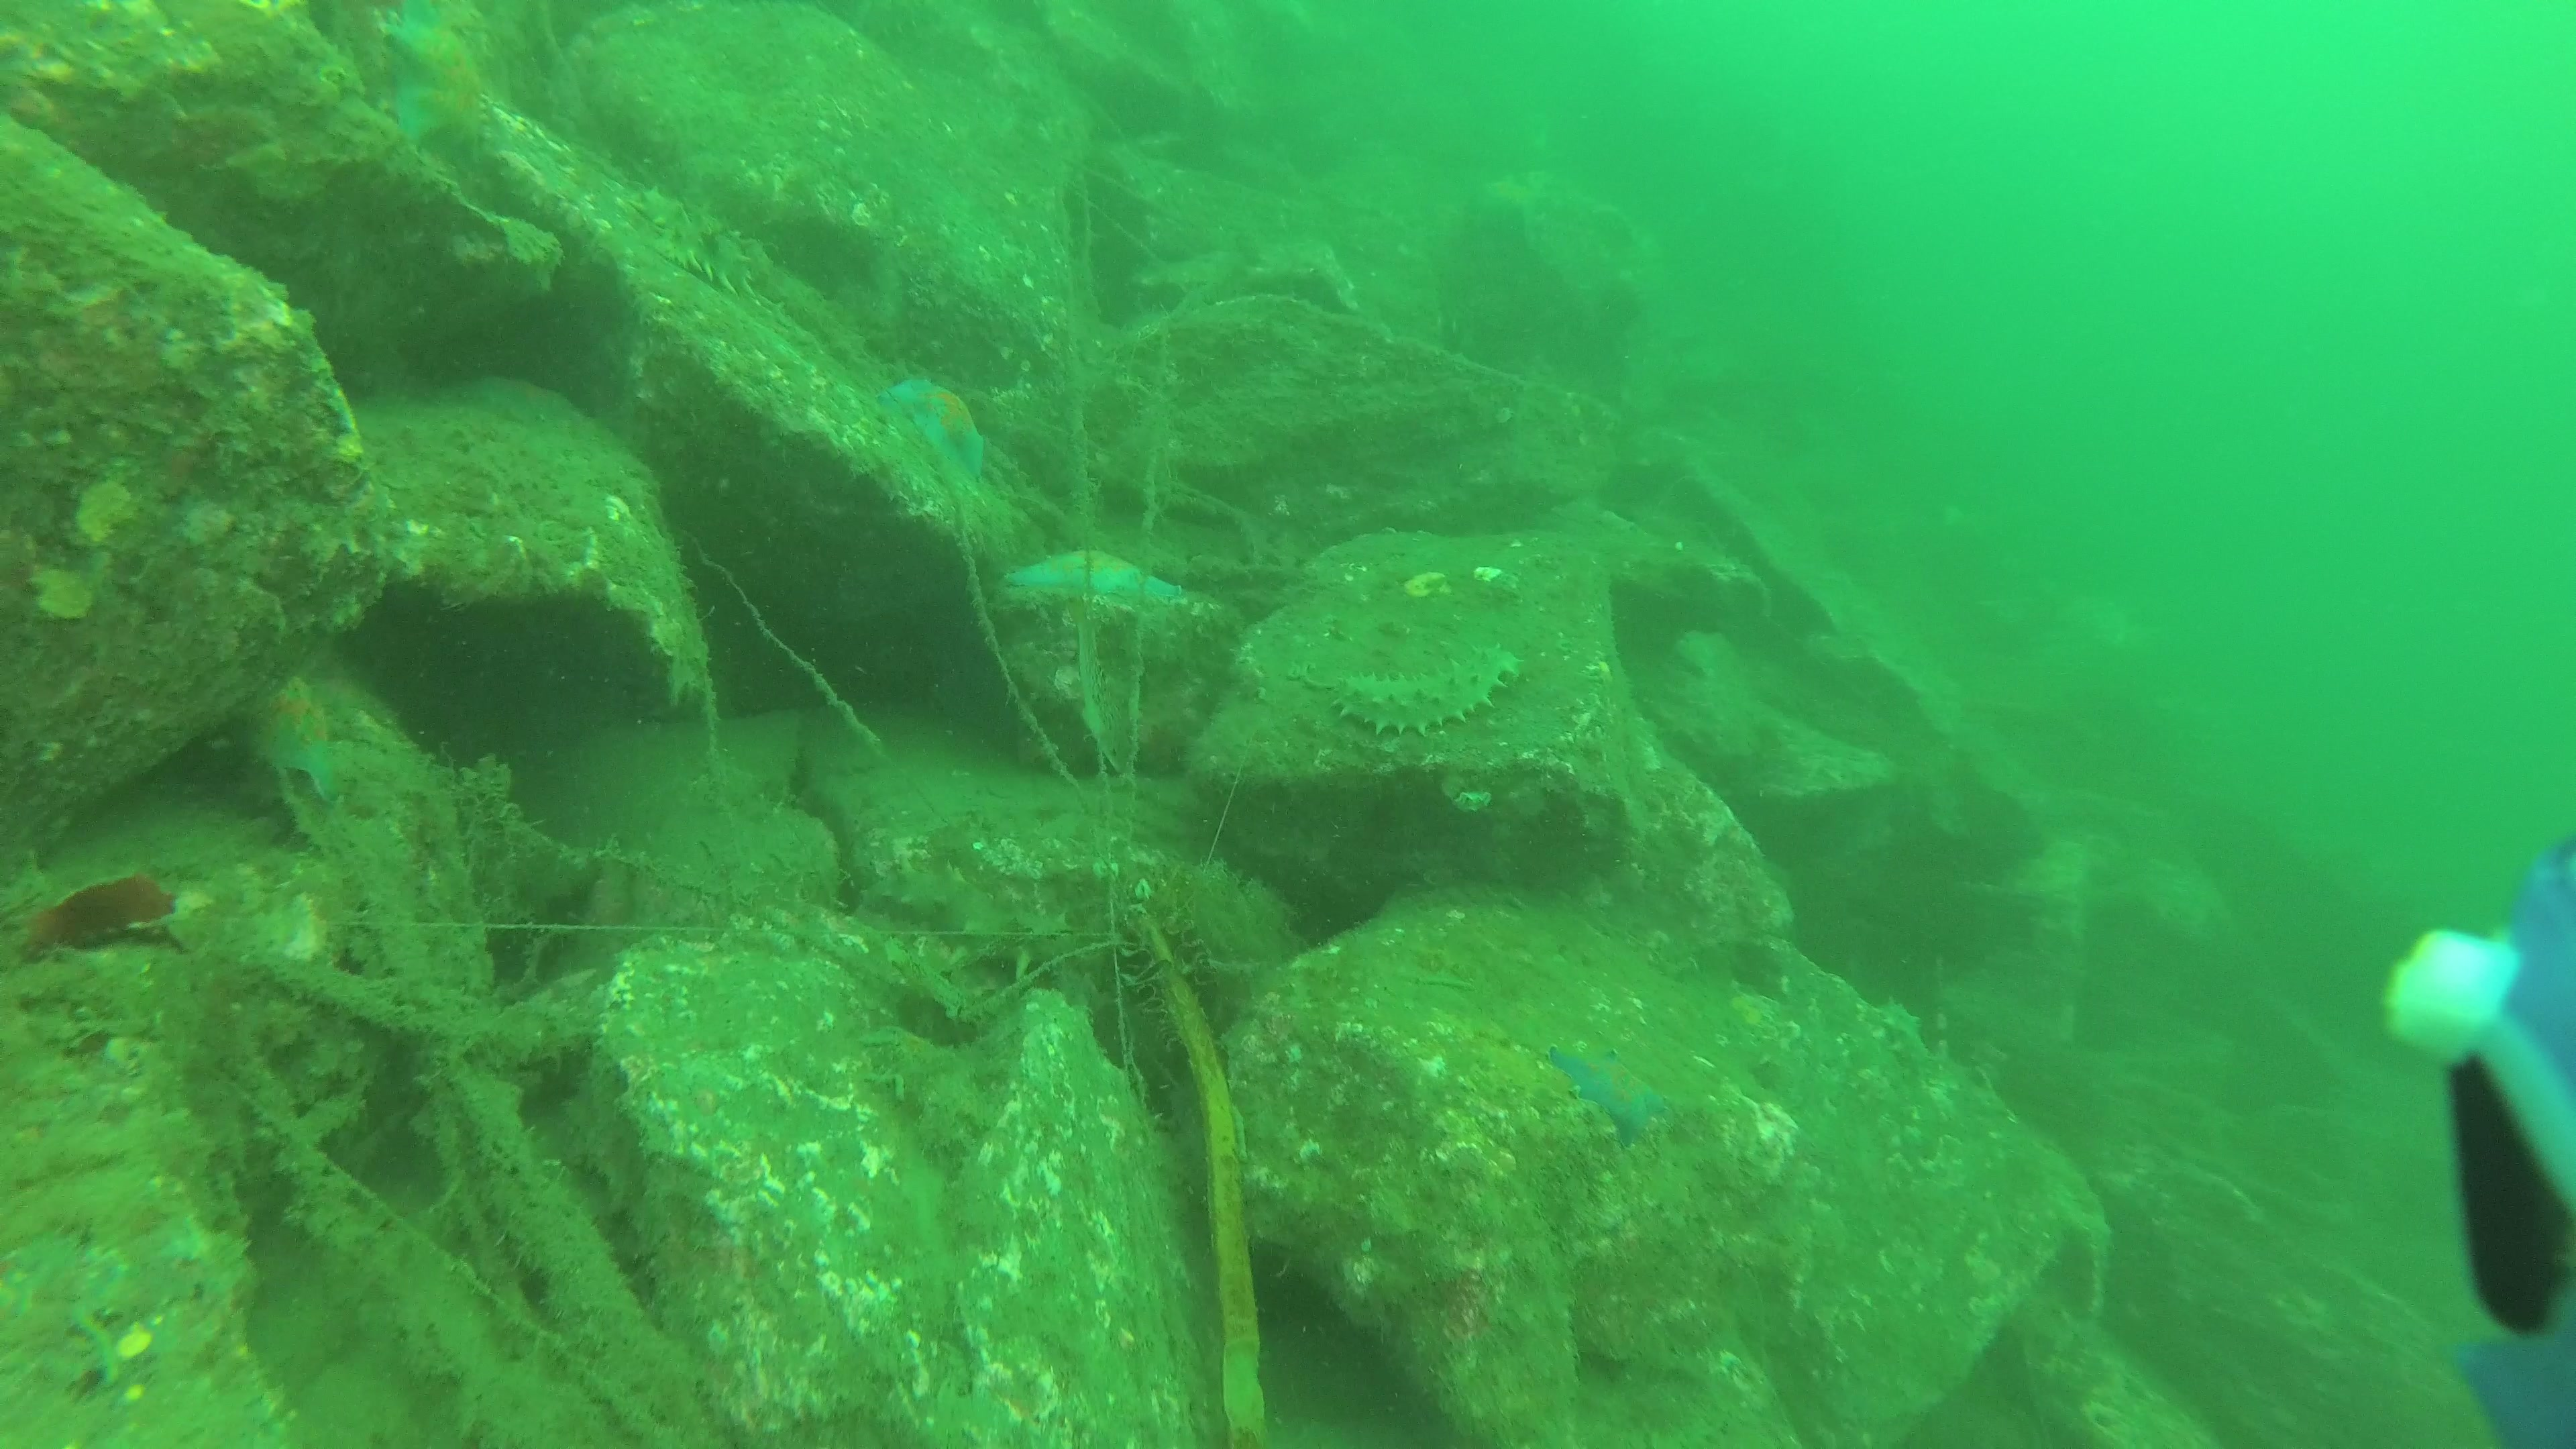holothurian: (1322, 639, 1523, 743)
starfish: (1001, 540, 1203, 632), (379, 0, 490, 163), (1537, 1039, 1679, 1146), (885, 368, 991, 497), (244, 672, 349, 803)
